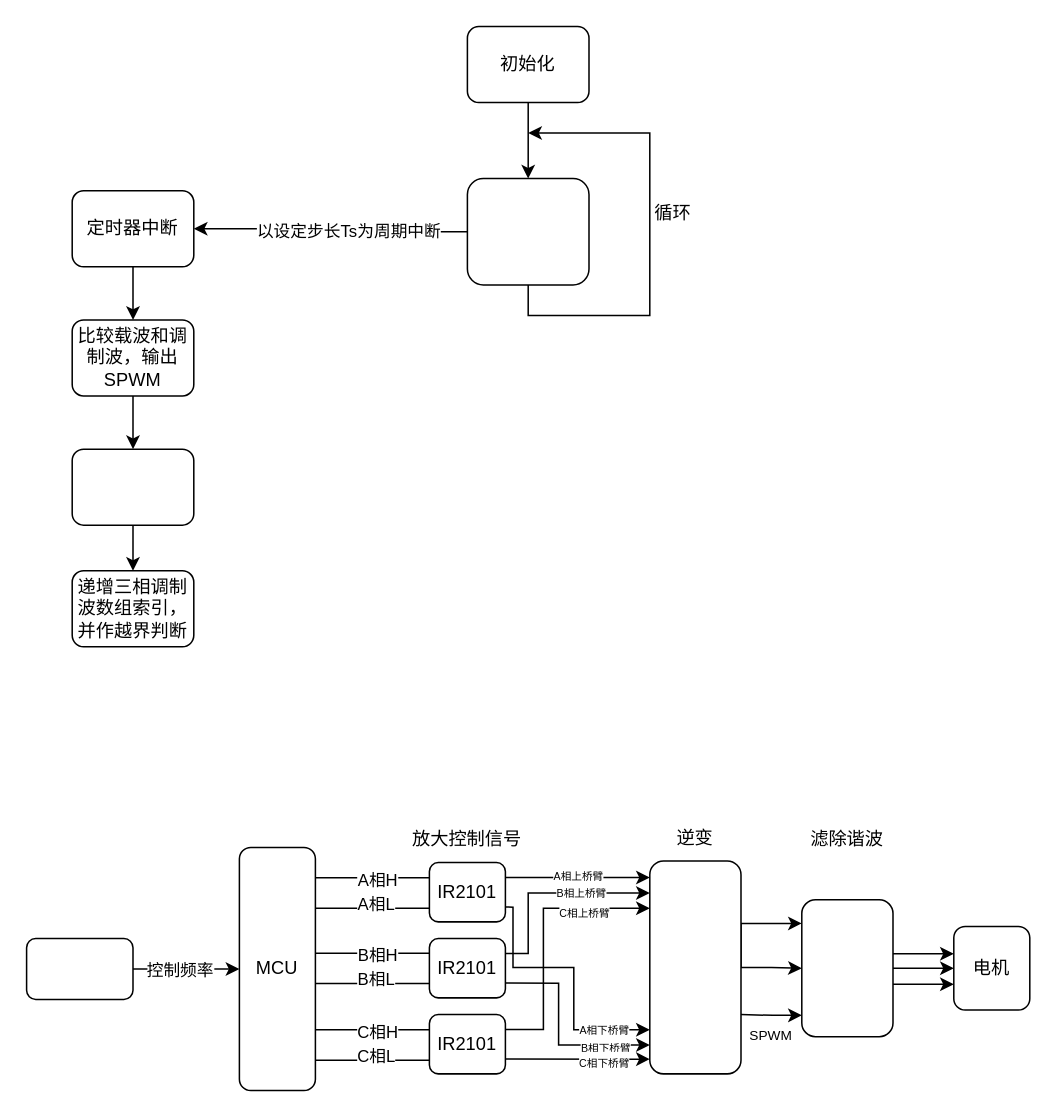
Some shapes in this 1056 by 1117 pixel diagram are drawn without their labels. The centre of each missing label's shape, as x and y in pixels:
"LCL滤波" belongs at pixel 846 967.
"三相桥式逆变电路" belongs at pixel 694 967.
"按键检测 控制频率增减" belongs at pixel 527 231.
"按键输入" belongs at pixel 79 968.
"根据控制步长增减载波值" belongs at pixel 132 486.
